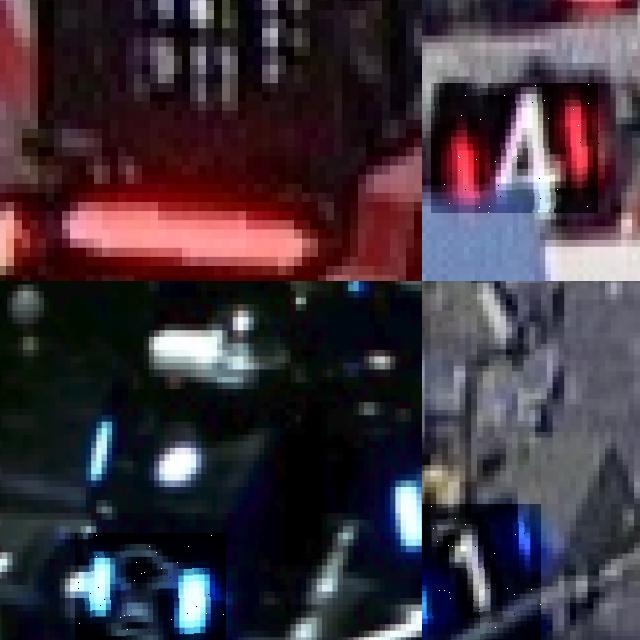B1: (422, 503, 541, 640)
Bs: (75, 532, 227, 640), (395, 467, 422, 552)
R4: (432, 83, 600, 213)
